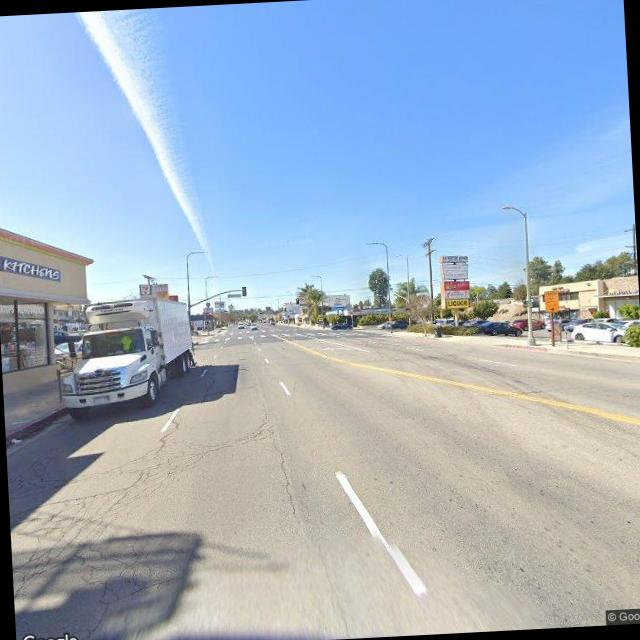crack: (5, 414, 229, 640)
pothole: (272, 440, 298, 526)
